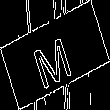M_N: (31, 23, 79, 87)
